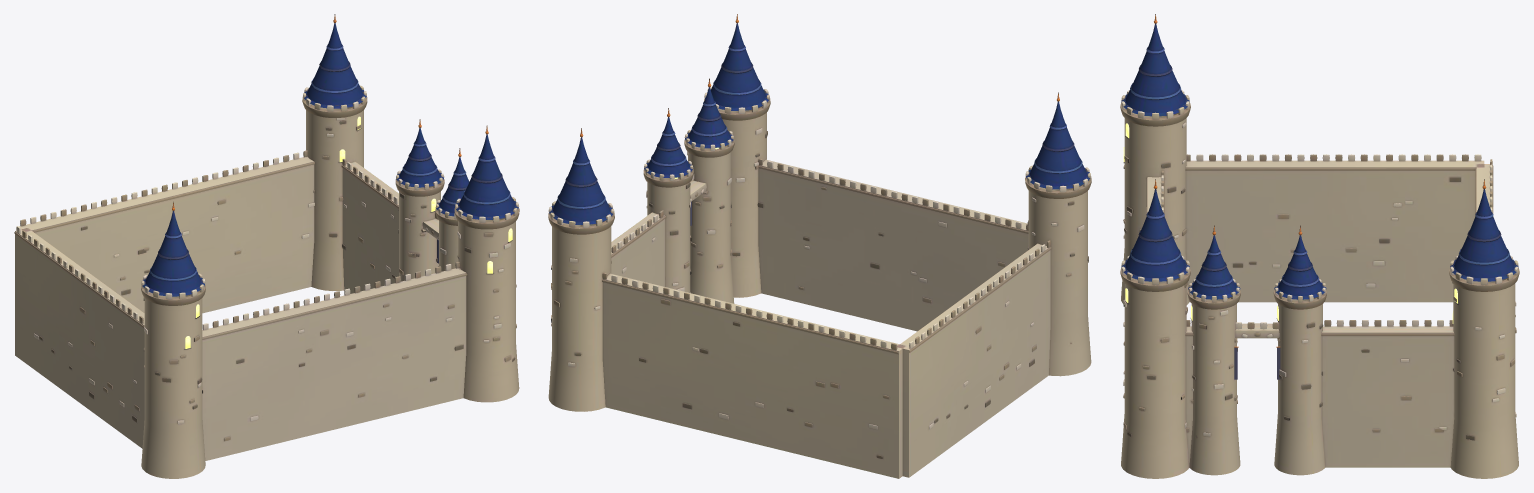
The model's file is castle_walls.glb.
The picture shows the model from 3 angles, left to right: view 1: azimuth 30°, elevation 25°; view 2: azimuth 150°, elevation 25°; view 3: azimuth 270°, elevation 25°; orthographic projection. The views are drawn at different scales.
Parts seen in each view (by area): view 1: main; view 2: main; view 3: main.
Boxes of the visible parts, x1=… form: main: x1=14, y1=14, x2=519, y2=478; main: x1=548, y1=14, x2=1091, y2=478; main: x1=1120, y1=14, x2=1519, y2=478.
Bounding box in the file's own units: 59 × 40.15 × 51.
2 materials, 1 textured.
